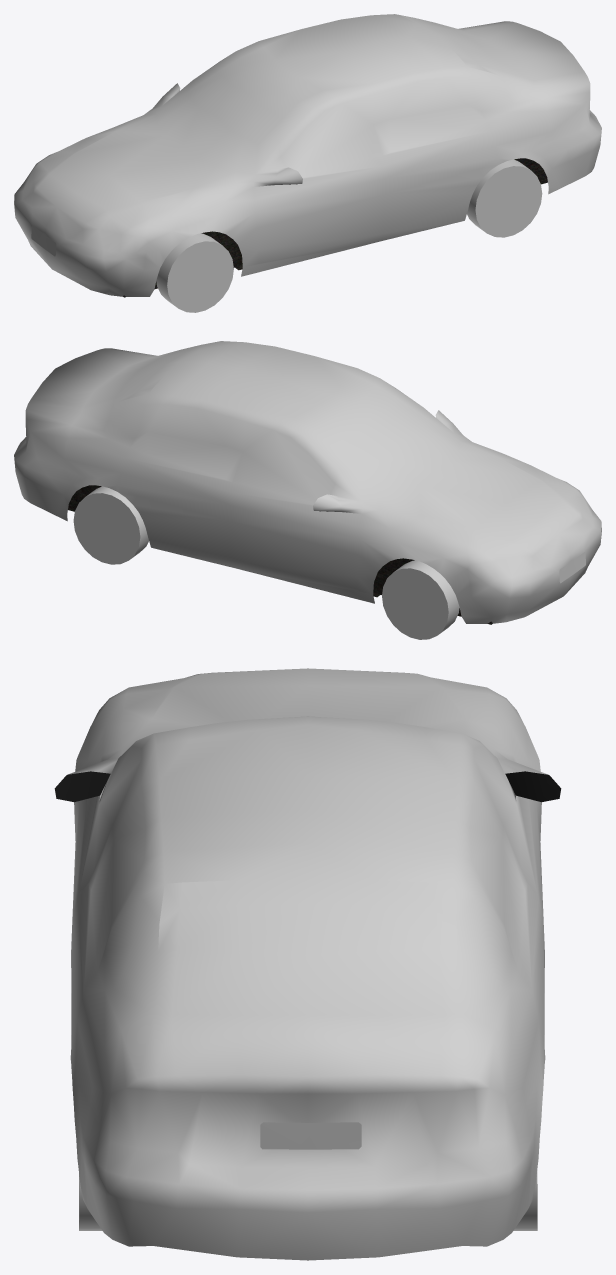
The model's file is car.dae.
3 views of the same model, one above another, from view 1: azimuth 30°, elevation 25°; view 2: azimuth 150°, elevation 25°; view 3: azimuth 270°, elevation 25° (orthographic). The views are drawn at different scales.
Visible parts, largest first — view 1: FBXASC0485body, FBXASC0485tyres, FBXASC0485tyresurf, FBXASC0485fill; view 2: FBXASC0485body, FBXASC0485tyres, FBXASC0485tyresurf, FBXASC0485fill, FBXASC0485plates; view 3: FBXASC0485body, FBXASC0485plates, FBXASC0485tyresurf.
Boxes of the visible parts, <box> form: FBXASC0485body: <box>14,14,601,296</box>; FBXASC0485tyres: <box>167,166,542,312</box>; FBXASC0485tyresurf: <box>156,159,529,307</box>; FBXASC0485fill: <box>123,158,547,297</box>; FBXASC0485body: <box>14,341,601,623</box>; FBXASC0485tyres: <box>73,493,448,639</box>; FBXASC0485tyresurf: <box>86,486,459,634</box>; FBXASC0485fill: <box>68,485,492,624</box>; FBXASC0485plates: <box>559,552,585,583</box>; FBXASC0485body: <box>54,668,561,1260</box>; FBXASC0485plates: <box>260,1122,361,1149</box>; FBXASC0485tyresurf: <box>79,1171,537,1230</box>.
Bounding box in the file's own units: 4.83 × 1.49 × 2.
